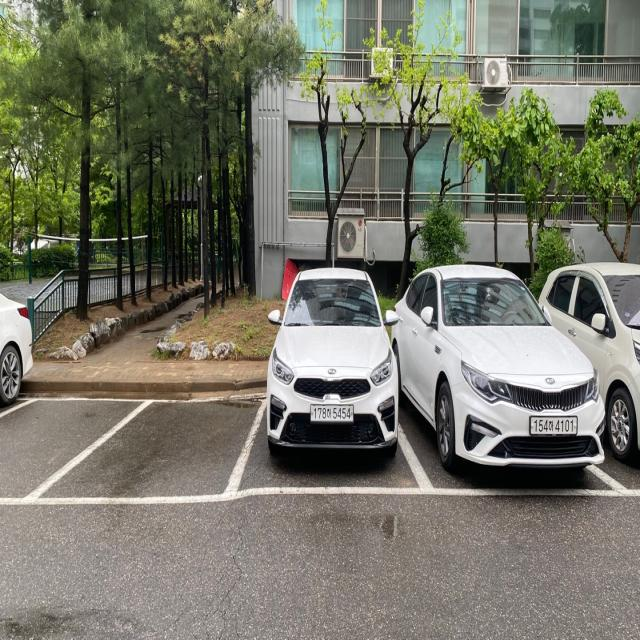empty: (22, 398, 268, 502), (0, 397, 159, 507)
occupied: (417, 266, 604, 465), (266, 267, 402, 459)
